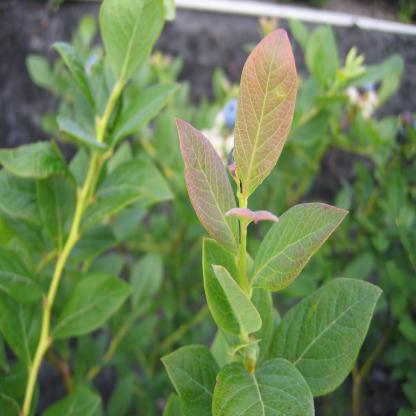Blueberry leaf: (273, 274, 384, 399), (233, 28, 301, 215), (254, 196, 365, 294), (173, 114, 242, 243), (201, 352, 319, 415)
